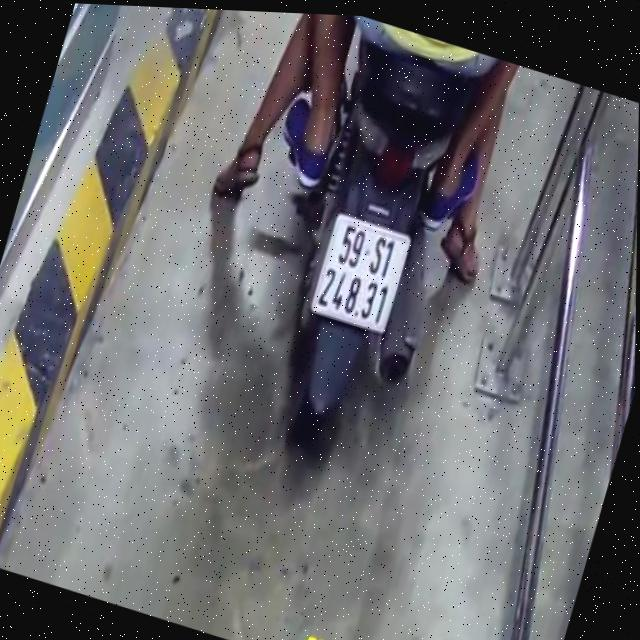motorcycle: (228, 34, 509, 485)
plate: (306, 208, 415, 339)
